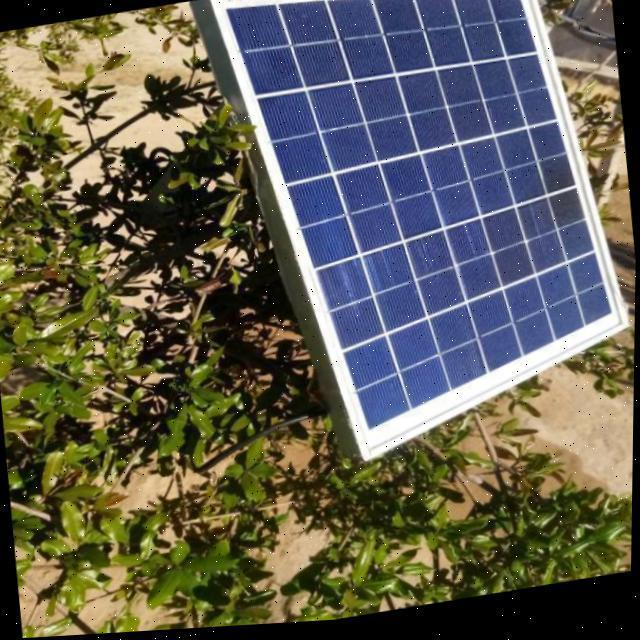Normal Solar Panel: (197, 0, 640, 485)
